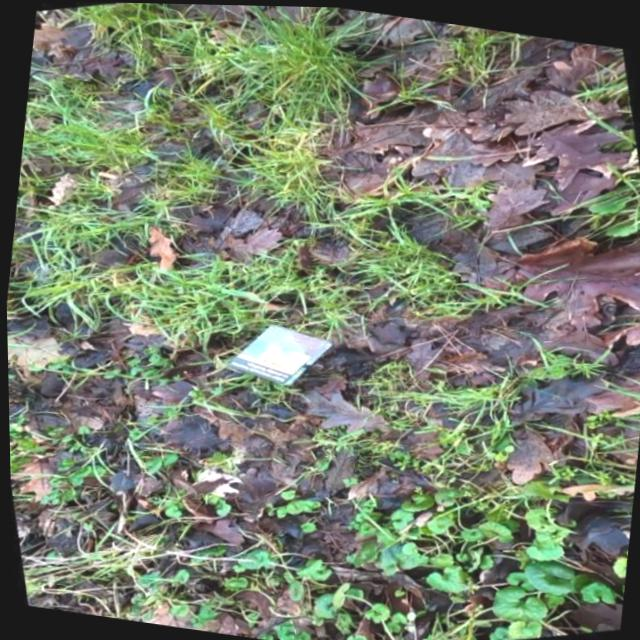Paper: (220, 315, 336, 394)
